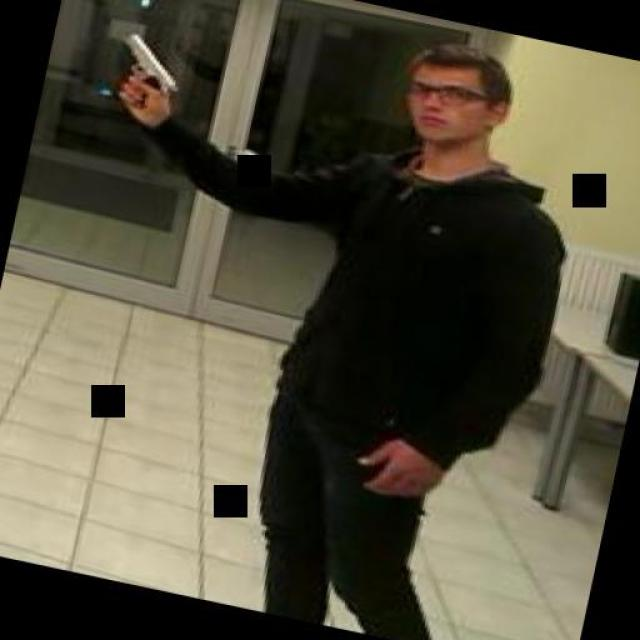gun: (96, 25, 192, 123)
